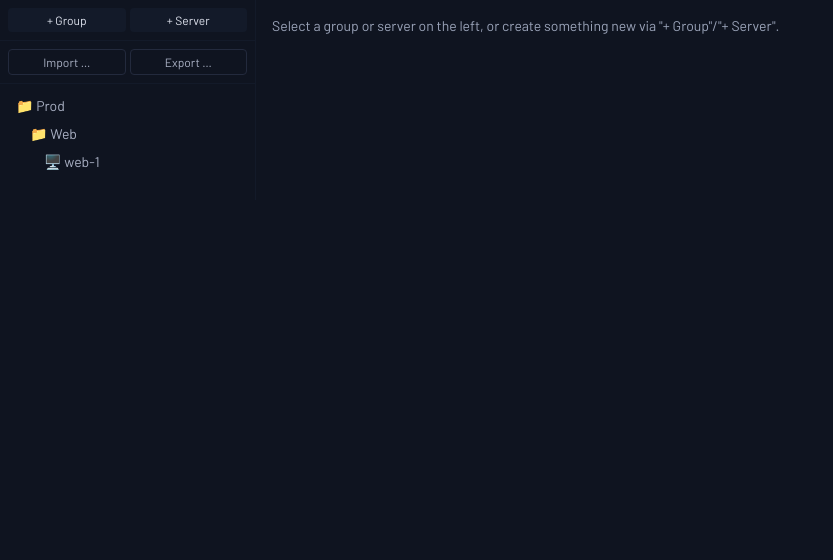
Test case: ManagementView: new items in the current folder (issue #49) › + Group with a folder selected preselects it as the parent
This screenshot has width=833, height=560.
Expected: the button "📁 Web" is shown, [8,120,247,148]
Click the button "📁 Prod": (128, 106) [8,92,247,120]
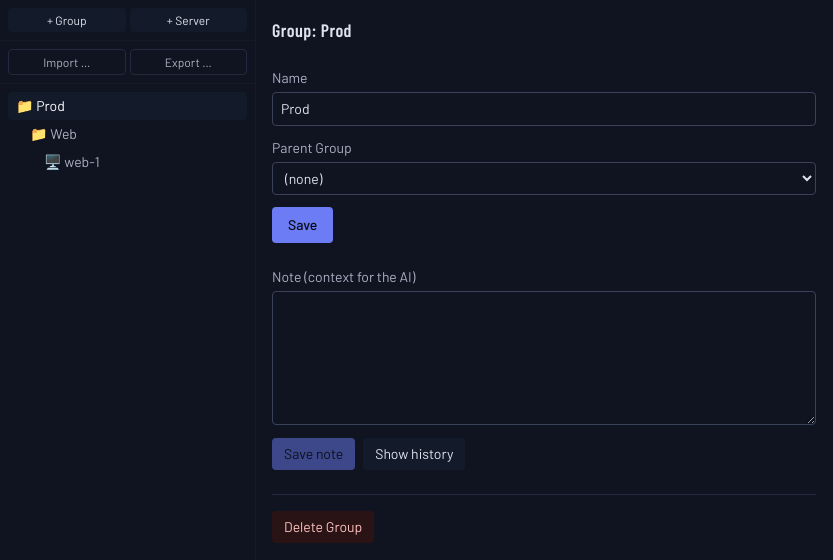
Click the button "+ Group": (67, 20) [8,8,126,32]
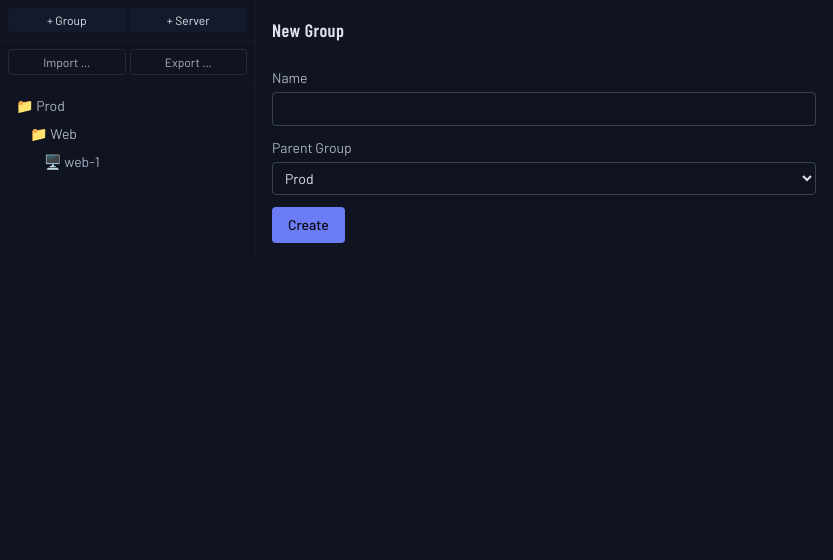
Expected: the heading "New Group" is shown, [272,19,344,41]
Expected: the dropdown shows "Prod", [272,162,816,195]
